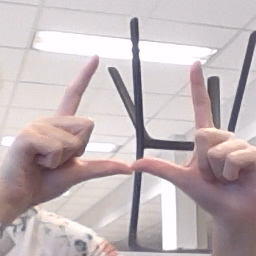U: (9, 54, 256, 223)
